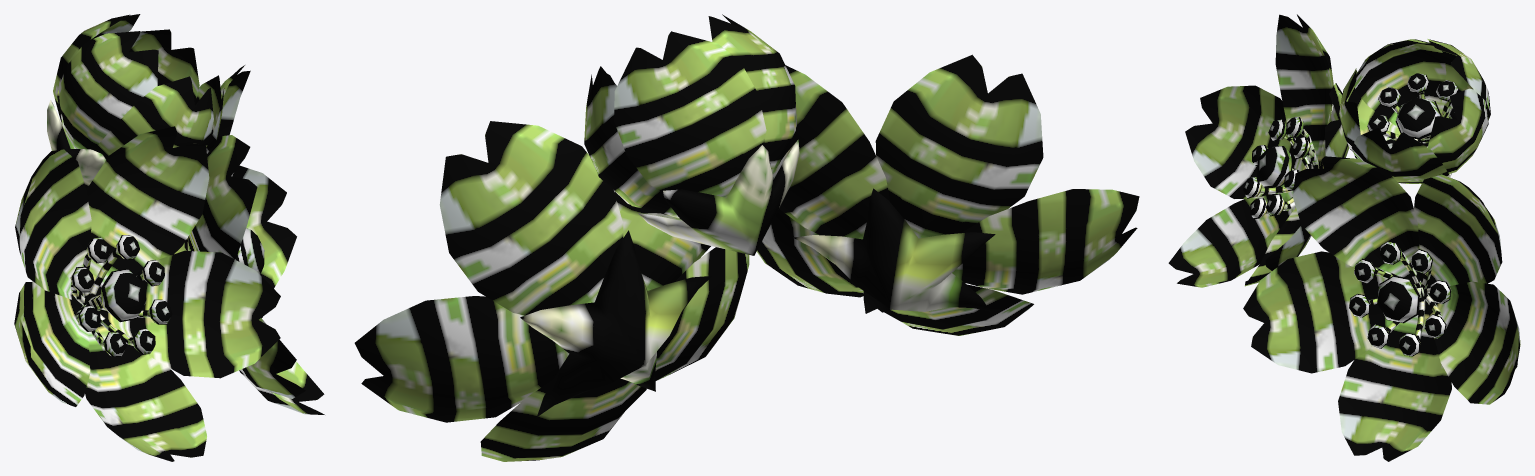
The model's file is pm0134_00_Rig.fbx.
3 renders of one model, left to right at view 1: azimuth 30°, elevation 25°; view 2: azimuth 150°, elevation 25°; view 3: azimuth 270°, elevation 25°, orthographic. The views are drawn at different scales.
Visible parts, largest first — view 1: doodad_spring_2023_flower; view 2: doodad_spring_2023_flower; view 3: doodad_spring_2023_flower.
Part boxes in pixels (box(x1,y1,x2,y2)): doodad_spring_2023_flower: box(14, 14, 324, 461); doodad_spring_2023_flower: box(354, 14, 1139, 461); doodad_spring_2023_flower: box(1168, 14, 1520, 461).
Size of the model in its own units: 0.1057 by 0.0917 by 0.0845.
